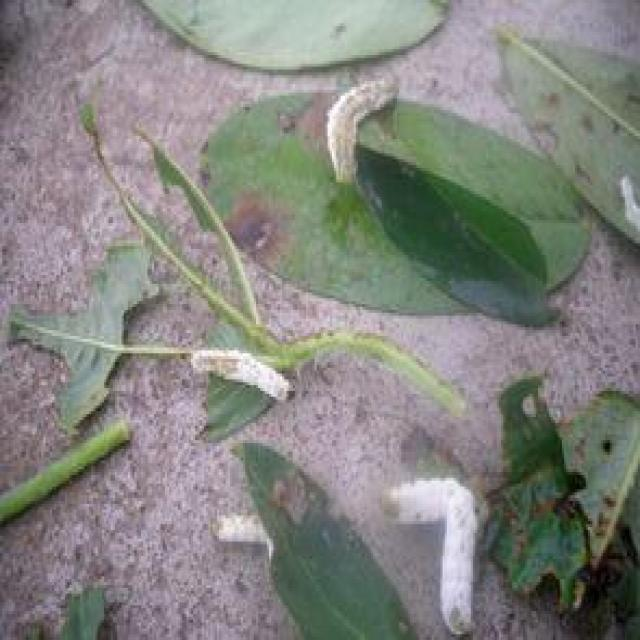BeetArmyWorm-Larva-: (365, 465, 487, 635), (321, 65, 410, 191), (186, 342, 294, 411)
